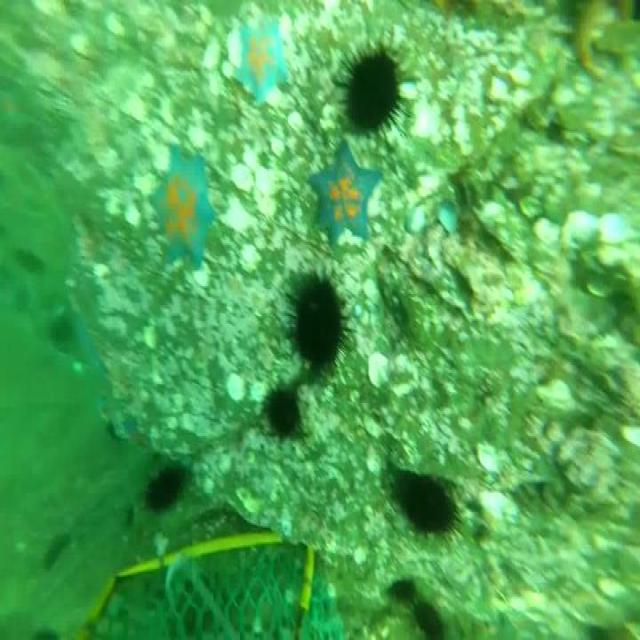echinus: (332, 46, 411, 139), (281, 272, 349, 371), (401, 465, 452, 537), (145, 466, 191, 514), (263, 389, 301, 442), (412, 599, 449, 640), (390, 578, 416, 604)
scallop: (476, 488, 518, 523), (558, 210, 596, 243), (536, 380, 576, 410), (414, 98, 442, 139), (476, 441, 512, 472), (220, 201, 252, 232), (597, 210, 627, 242), (532, 212, 562, 242), (367, 354, 392, 384), (231, 161, 253, 191), (224, 372, 246, 398), (254, 169, 276, 194), (512, 62, 532, 87), (202, 43, 220, 68)
starfish: (308, 138, 382, 252), (154, 153, 215, 272), (232, 8, 290, 103), (70, 327, 108, 405)
